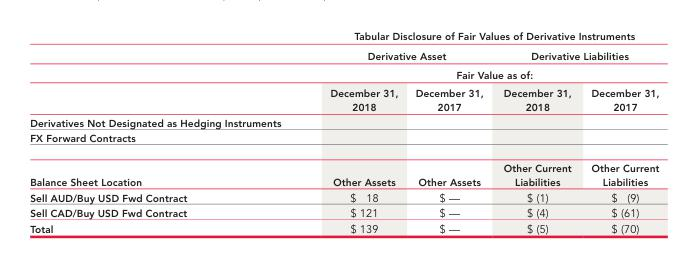table: (29, 29, 658, 235)
table column: (29, 29, 257, 235), (257, 29, 406, 235), (492, 29, 580, 235), (406, 29, 492, 235), (580, 29, 658, 235)
table column header: (29, 29, 658, 114)
table projected row header: (29, 130, 658, 153), (29, 114, 658, 130)
table row: (29, 153, 658, 189), (29, 83, 658, 114), (29, 130, 658, 153), (29, 46, 658, 65), (29, 65, 658, 83), (29, 29, 658, 46), (29, 114, 658, 130), (29, 204, 658, 220), (29, 189, 658, 204), (29, 220, 658, 235)
table spanning cell: (257, 65, 658, 83), (257, 29, 658, 46), (257, 46, 492, 65), (492, 46, 658, 65)
